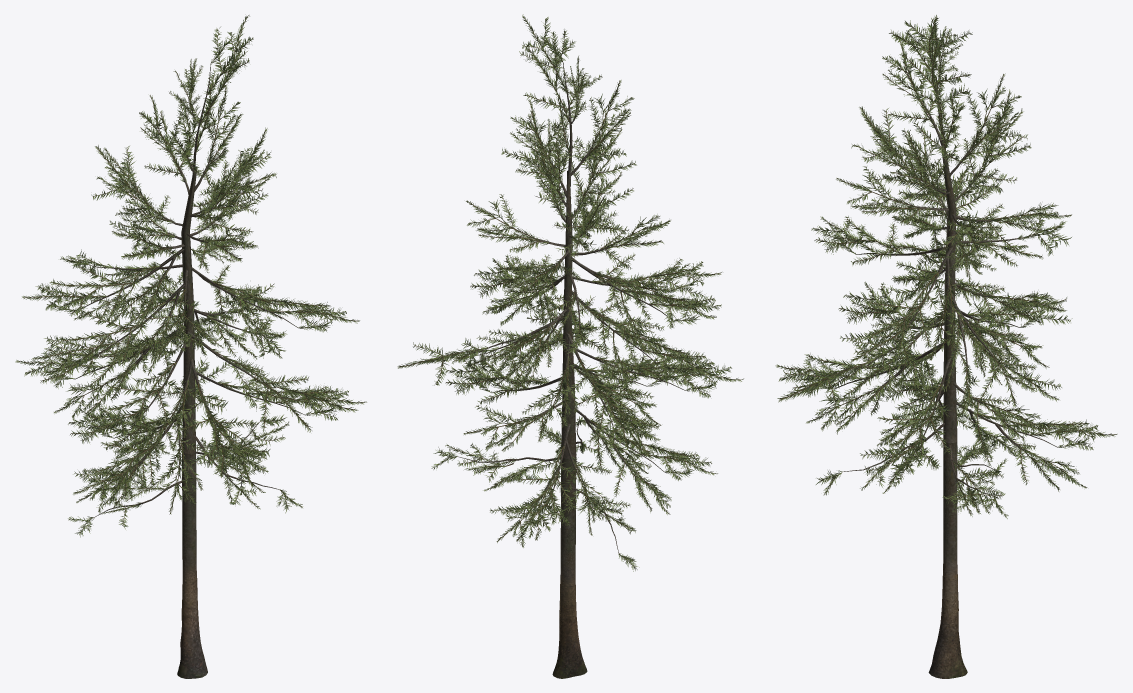
File: pineTreeMed.gltf
The picture shows the model from 3 angles, left to right: view 1: azimuth 30°, elevation 25°; view 2: azimuth 150°, elevation 25°; view 3: azimuth 270°, elevation 25°; orthographic projection. The views are drawn at different scales.
Parts seen in each view (by area): view 1: pine_tree_med, pine_large_008.001, pine_med_001.001, pine_large_011.001, pine_large_006.001, pine_large_004.001, pine_large_002.001, pine_large_003.001, pine_large_009.001, pine_large_010.001, pine_large_005.001, pine_bushy_004.001 (+28 smaller); view 2: pine_tree_med, pine_large_003.001, pine_large_005.001, pine_large_001.001, pine_large_011.001, pine_large_008.001, pine_large_007.001, pine_bushy_002.001, pine_large_006.001, pine_med_002.001, pine_large_002.001, pine_bushy_004.001 (+35 smaller); view 3: pine_tree_med, pine_large_009.001, pine_large_007.001, pine_large_003.001, pine_med_001.001, pine_large_010.001, pine_bushy_004.001, pine_large_004.001, pine_med_002.001, pine_bushy_003.001, pine_large_001.001, pine_large_006.001 (+32 smaller).
Boxes of the visible parts, x1,y1,x2,y2 form: pine_tree_med: (177,168,207,678); pine_large_008.001: (32,283,184,377); pine_med_001.001: (187,331,358,432); pine_large_011.001: (22,248,184,320); pine_large_006.001: (82,341,187,436); pine_large_004.001: (175,359,263,477); pine_large_002.001: (73,404,184,501); pine_large_003.001: (187,15,253,182); pine_large_009.001: (191,267,359,332); pine_large_010.001: (133,269,208,357); pine_large_005.001: (15,329,180,388); pine_bushy_004.001: (91,145,182,226); pine_tree_med: (552,170,587,678); pine_large_003.001: (519,14,588,186); pine_large_005.001: (563,333,660,449); pine_large_001.001: (501,424,576,531); pine_large_011.001: (571,257,721,328); pine_large_008.001: (572,291,714,377); pine_large_007.001: (445,353,562,405); pine_bushy_002.001: (568,109,636,219); pine_large_006.001: (576,348,743,398); pine_med_002.001: (397,322,551,385); pine_large_002.001: (576,408,717,480); pine_bushy_004.001: (554,194,628,261); pine_tree_med: (928,141,967,678); pine_large_009.001: (840,247,952,369); pine_large_007.001: (860,358,951,474); pine_large_003.001: (889,15,972,149); pine_med_001.001: (777,313,944,410); pine_large_010.001: (811,216,945,265); pine_bushy_004.001: (954,89,1031,201); pine_large_004.001: (775,343,945,400); pine_med_002.001: (955,306,1061,407); pine_bushy_003.001: (877,128,950,204); pine_large_001.001: (956,402,1117,450); pine_large_006.001: (838,281,944,336).
Size of what is drawn, in the model's own units: 7.26 by 14.8 by 6.77.
Materials: 1 (1 with a texture image).
